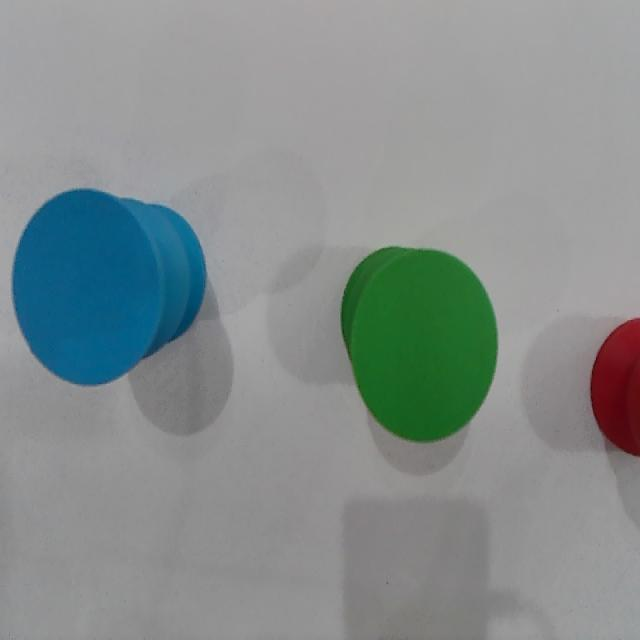b: (12, 189, 158, 386)
g: (351, 249, 498, 440)
